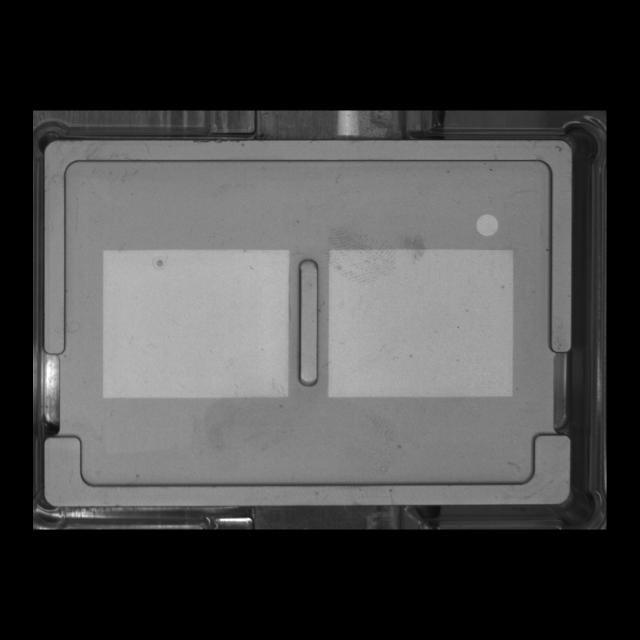door: (37, 422, 581, 516)
point: (472, 208, 502, 242)
